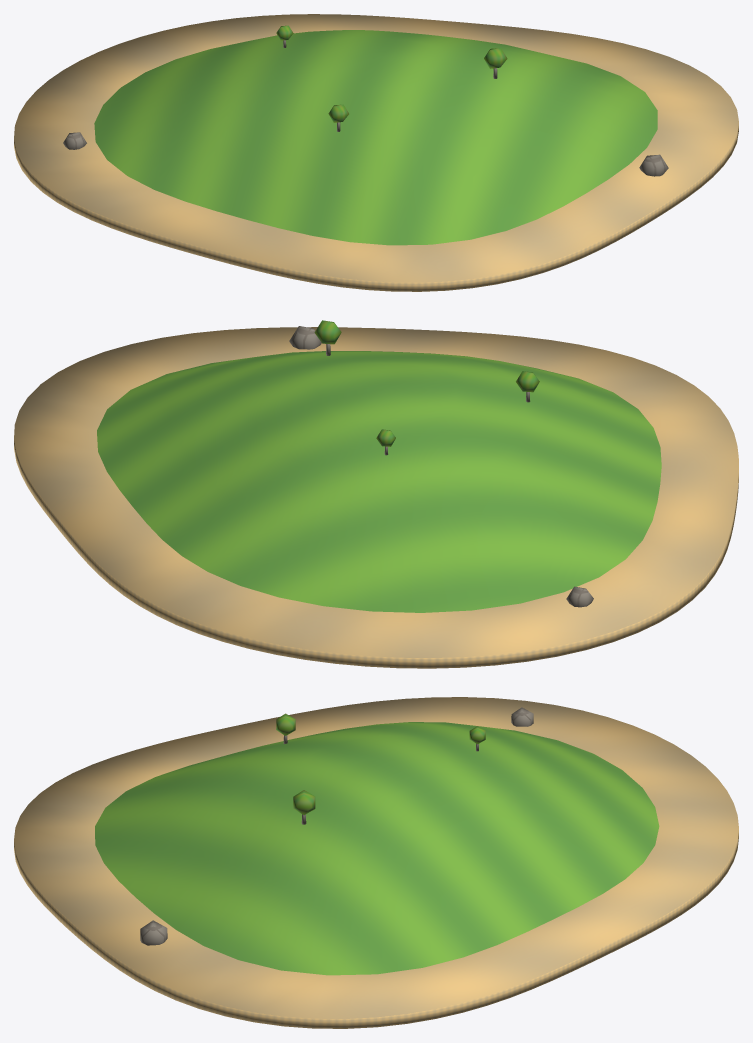
Rendered from ISL-M_LOD1.fbx.
3 views of the same model, one above another, from view 1: azimuth 30°, elevation 25°; view 2: azimuth 150°, elevation 25°; view 3: azimuth 270°, elevation 25° (orthographic). The views are drawn at different scales.
Visible parts, largest first — view 1: ISL-M_LOD1_Assembled; view 2: ISL-M_LOD1_Assembled; view 3: ISL-M_LOD1_Assembled.
Boxes of the visible parts, <box> form: ISL-M_LOD1_Assembled: <box>14,14,738,291</box>; ISL-M_LOD1_Assembled: <box>14,320,738,668</box>; ISL-M_LOD1_Assembled: <box>14,697,738,1028</box>.
Size of the model in its own units: 105 by 99.49 by 17.31.
Materials: 3 (3 with a texture image).
